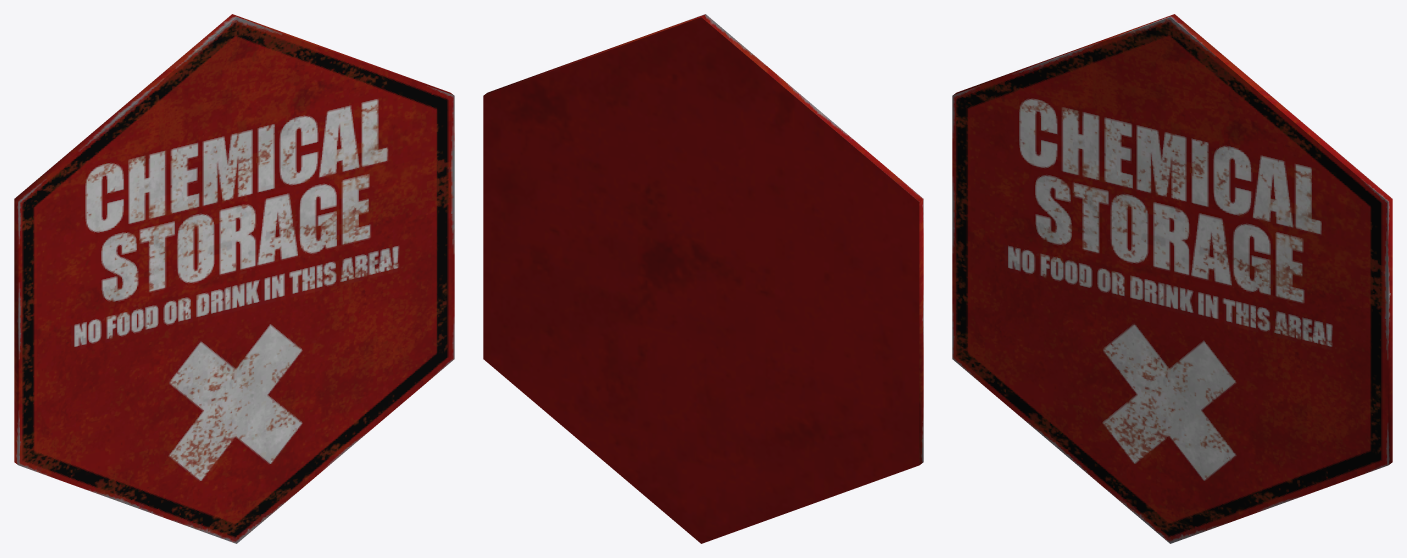
The model's file is sign_hex_chemstorage.dae.
3 views of the same model, side by side, from view 1: azimuth 30°, elevation 25°; view 2: azimuth 150°, elevation 25°; view 3: azimuth 330°, elevation 25° (orthographic).
Visible parts, largest first — view 1: sign_hex_chemstorage; view 2: sign_hex_chemstorage; view 3: sign_hex_chemstorage.
Boxes of the visible parts, x1,y1,x2,y2 form: sign_hex_chemstorage: (14, 14, 454, 543); sign_hex_chemstorage: (483, 14, 923, 543); sign_hex_chemstorage: (952, 14, 1392, 543).
Size of the model in its own units: 0.3889 by 0.4491 by 0.00673.
Materials: 1 (1 with a texture image).
